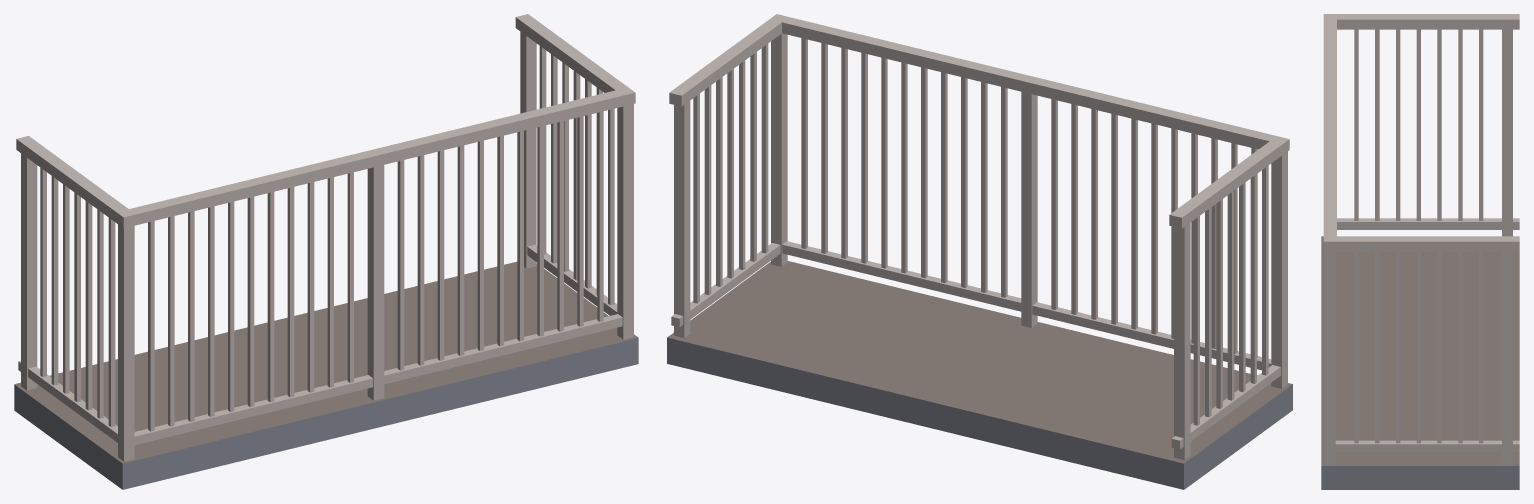
The model's file is SM_Fixture_BalconyShort16520_AluBars_01.gltf.
3 renders of one model, left to right at view 1: azimuth 30°, elevation 25°; view 2: azimuth 150°, elevation 25°; view 3: azimuth 270°, elevation 25°, orthographic. The views are drawn at different scales.
Parts seen in each view (by area): view 1: SM_Fixture_BalconyShort16520_AluBars_01; view 2: SM_Fixture_BalconyShort16520_AluBars_01; view 3: SM_Fixture_BalconyShort16520_AluBars_01.
Part boxes in pixels (x1=…): SM_Fixture_BalconyShort16520_AluBars_01: x1=14, y1=14, x2=638, y2=489; SM_Fixture_BalconyShort16520_AluBars_01: x1=667, y1=14, x2=1292, y2=489; SM_Fixture_BalconyShort16520_AluBars_01: x1=1321, y1=14, x2=1519, y2=489.
Bounding box in the file's own units: 2.47 × 1.24 × 0.9.
1 material, 1 textured.
